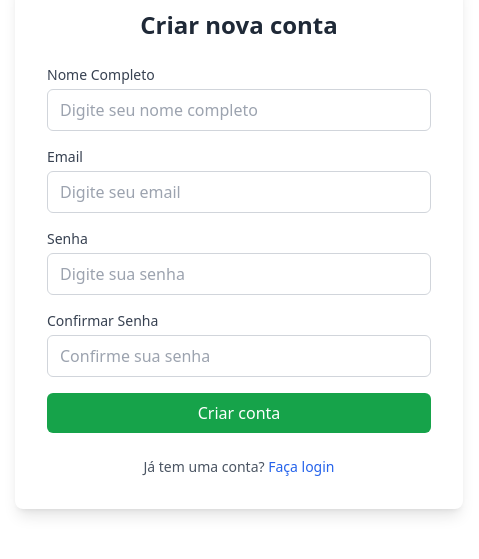
Test: RegisterForm › should validate name minimum length
Type "A" into the field labelled "Nome Completo" at (239, 110), box x1=47 y1=89 x2=431 y2=131
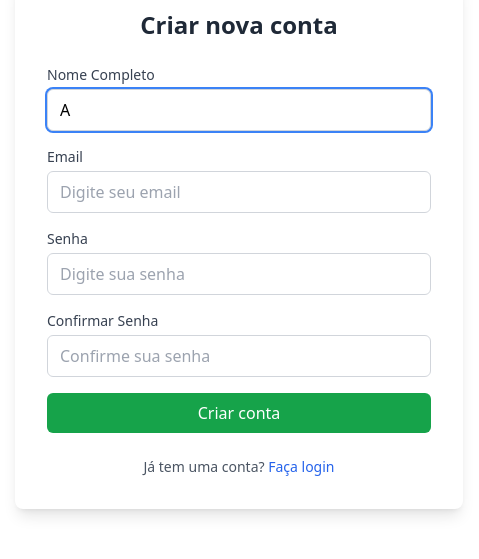
Type "test@example.com" into the field labelled "Email" at (239, 192), box x1=47 y1=171 x2=431 y2=213
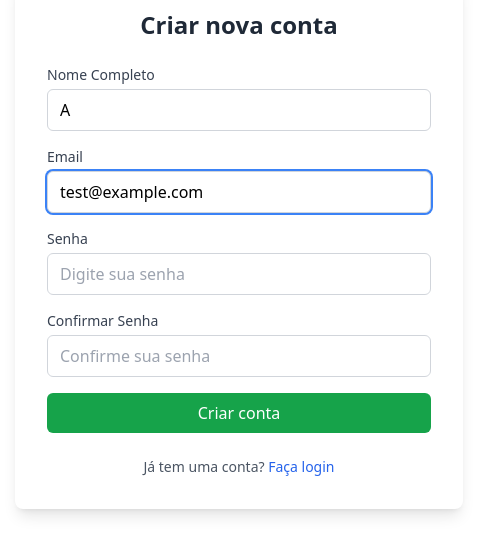
Type "password123" into the password field labelled "Senha" at (239, 274), box x1=47 y1=253 x2=431 y2=295
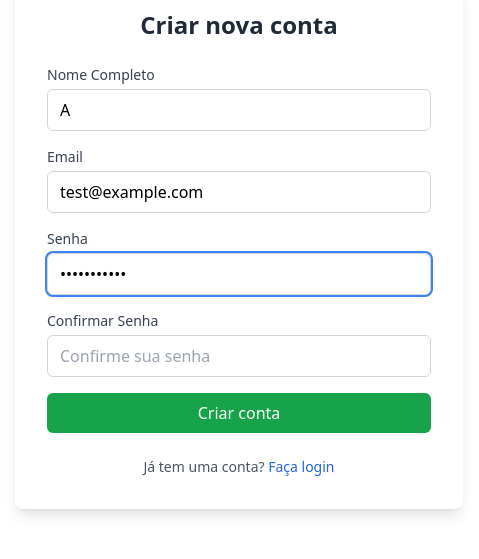
Type "password123" into the password field labelled "Confirmar Senha" at (239, 356), box x1=47 y1=335 x2=431 y2=377
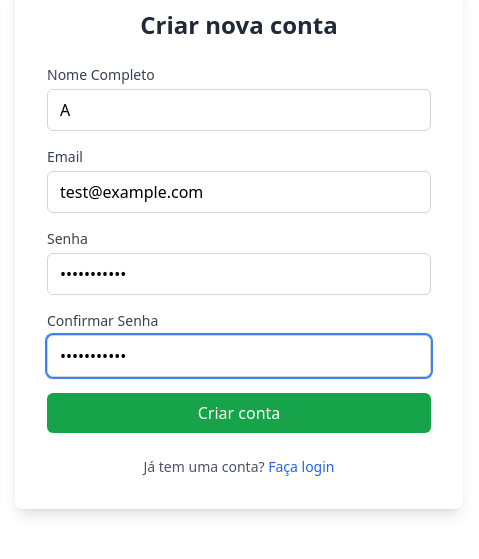
Click the button "Criar conta" at (239, 413), box x1=47 y1=393 x2=431 y2=433
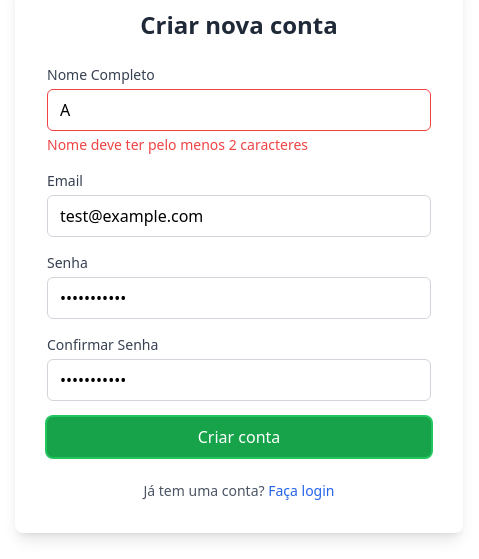
Expected: the text "Nome deve ter pelo menos 2 caracteres" is shown, x1=47 y1=135 x2=308 y2=154
